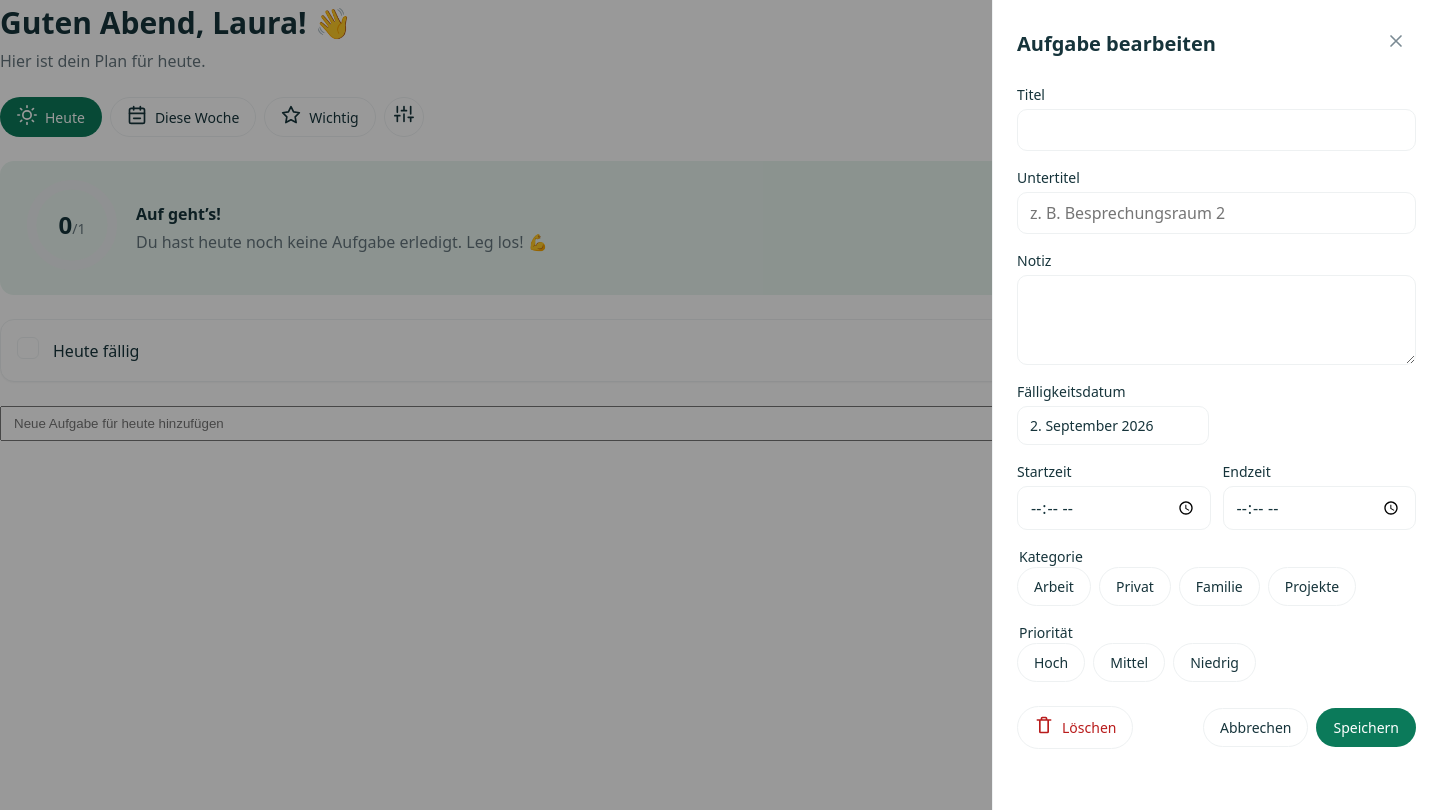
Test: AufgabenPageComponent › Detail-/Bearbeitungsansicht (TDP-38) › deletes via the panel using the same undo mechanism as removeTask
This screenshot has width=1440, height=810.
Click the button with class "task-detail-panel__delete" at (1075, 728), box [1017,706,1133,749]
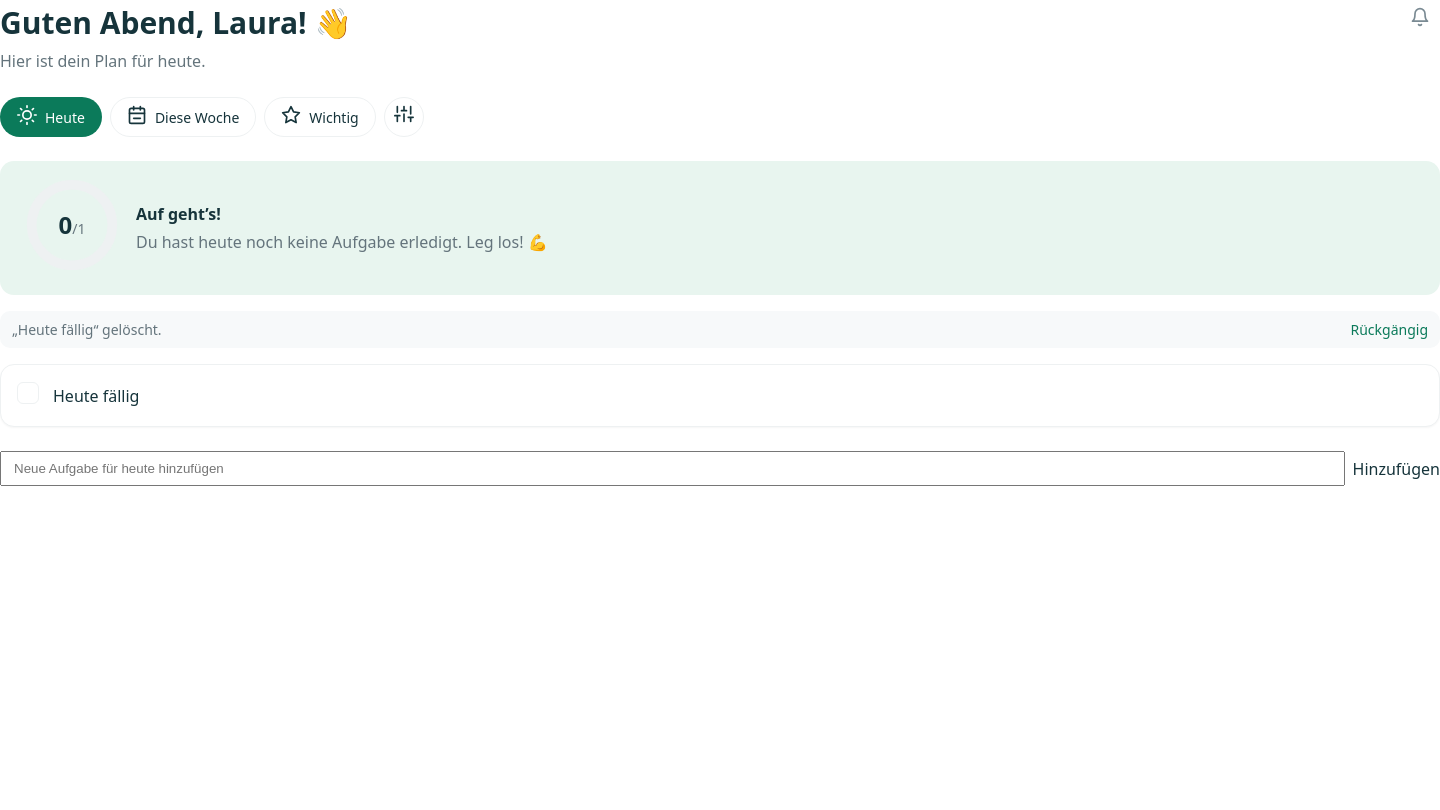
Check: the dialog with class "task-detail-panel" is gone
Check: the message with class "undo-notice" shows "Heute fällig", box [12,320,162,339]
